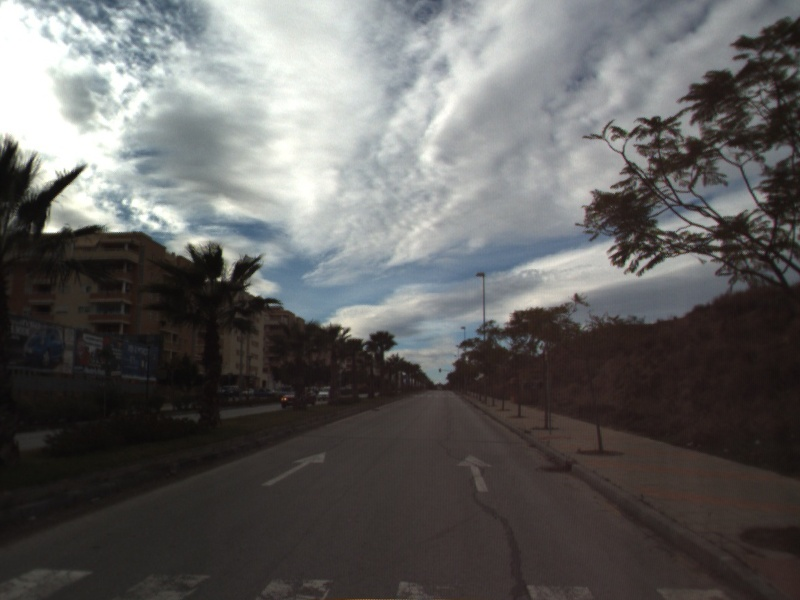STRAIGHT: (260, 450, 328, 488), (454, 452, 495, 494)
